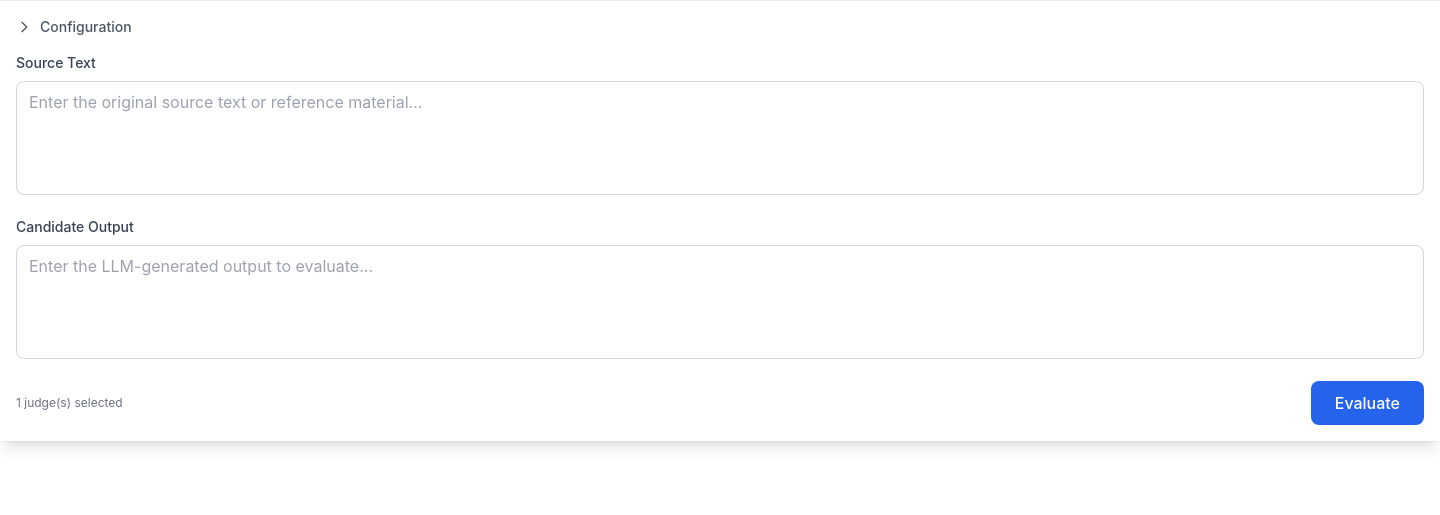
Test: ChatInputForm › should validate minimum length
Type "short" into the text box labelled "Source Text".
click(720, 138); type("short")  # box [16,81,1424,195]
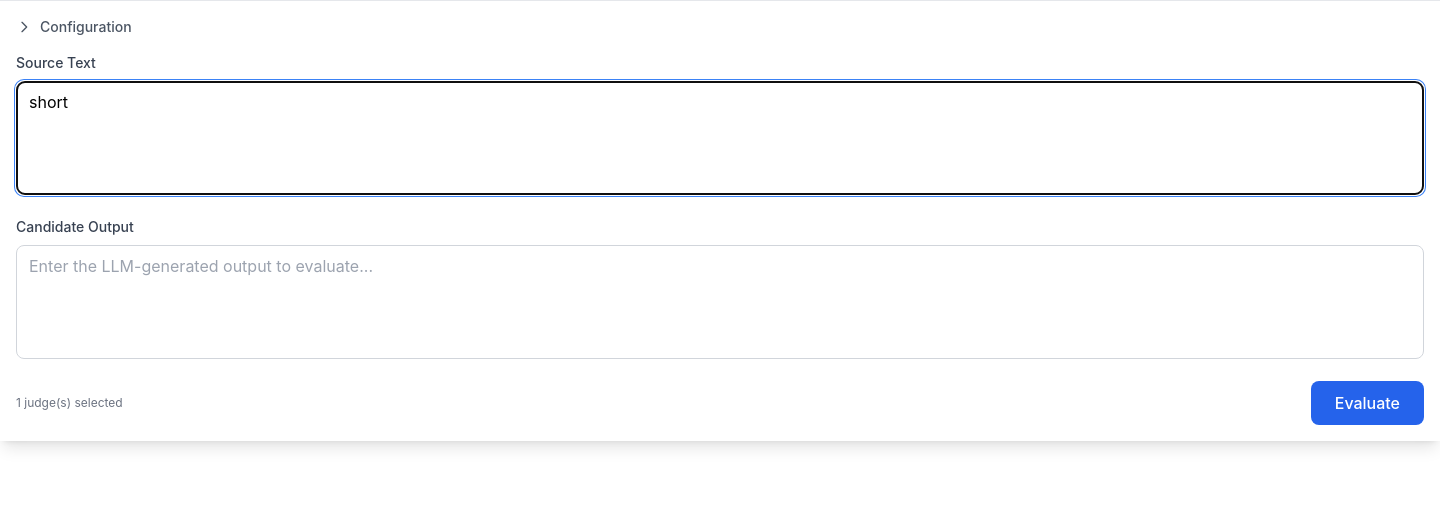
Type "short" into the text box labelled "Candidate Output".
click(720, 302); type("short")  # box [16,245,1424,359]
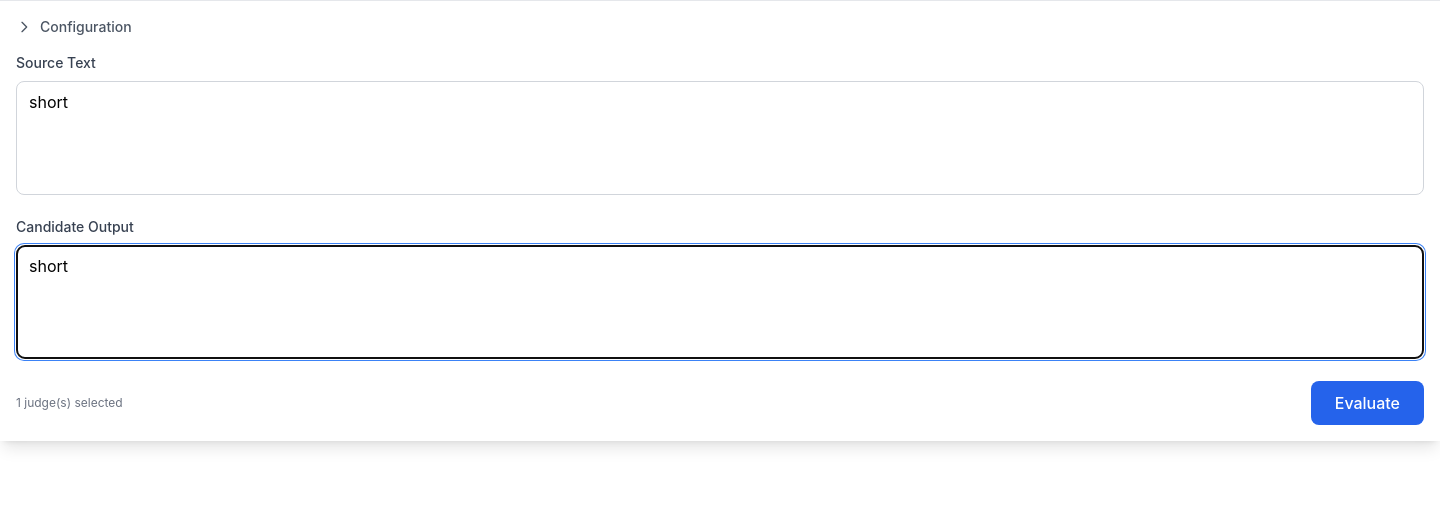
Click the button "Evaluate".
click(1367, 403)  # box [1311,381,1424,425]
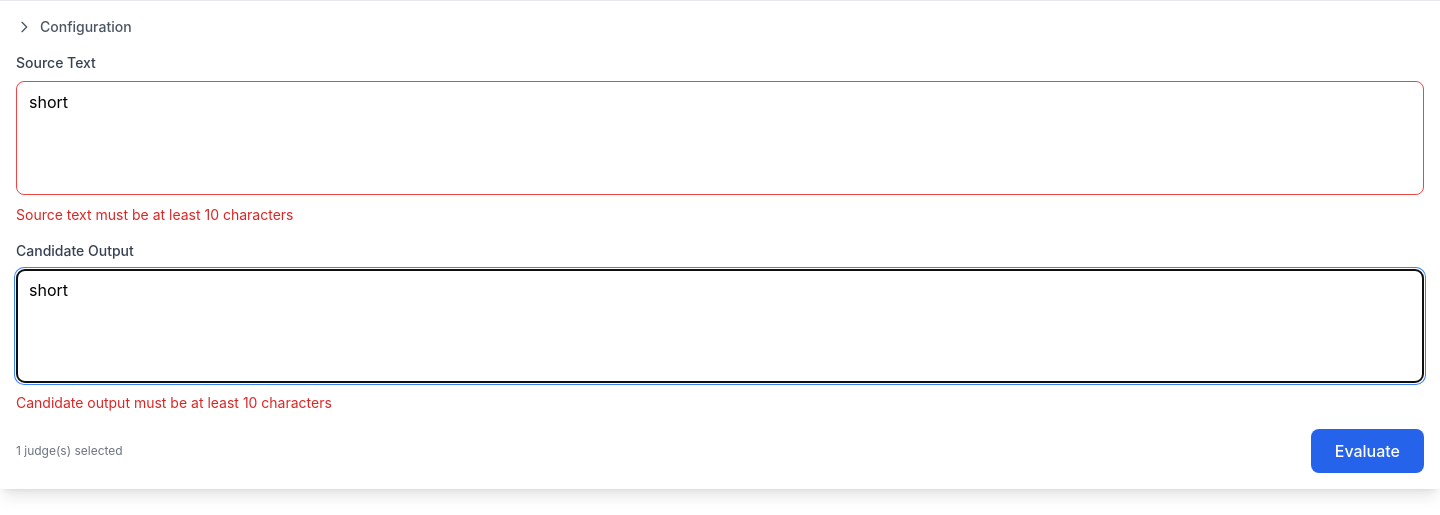
Check: the text "Source text must be at least 10 characters" is shown, box [16,206,294,223]
Check: the text "Candidate output must be at least 10 characters" is shown, box [16,394,332,411]
